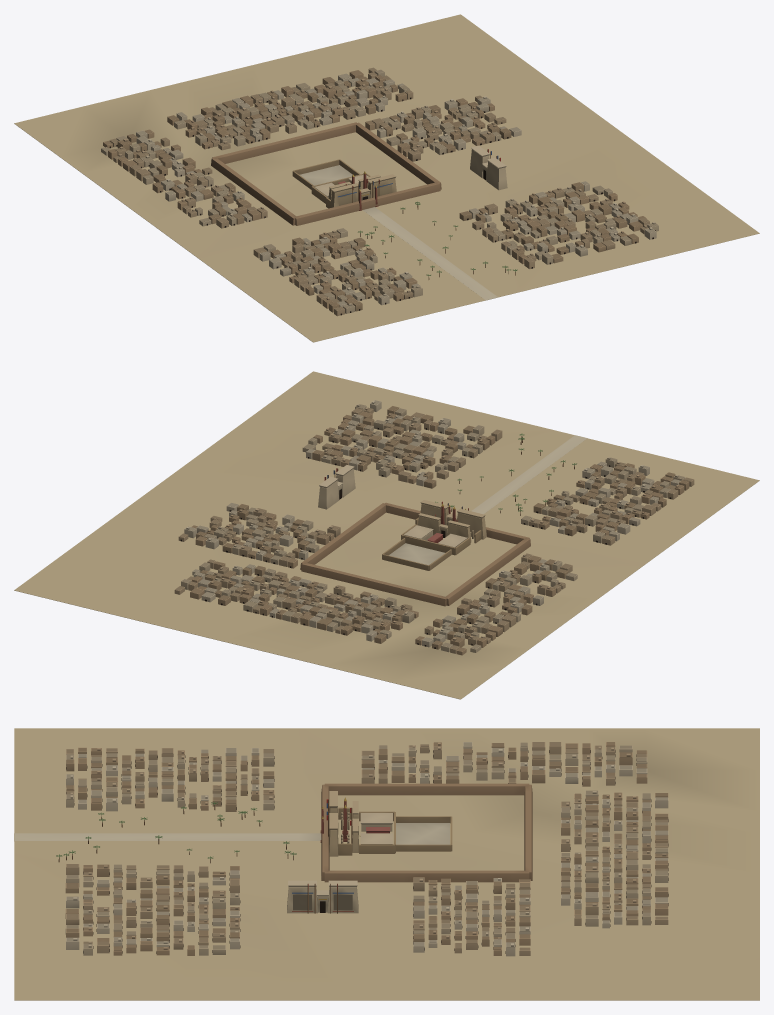
The model's file is karnak-1470.glb.
3 renders of one model, top to bottom at view 1: azimuth 30°, elevation 25°; view 2: azimuth 150°, elevation 25°; view 3: azimuth 270°, elevation 25°, orthographic. The views are drawn at different scales.
Parts seen in each view (by area): view 1: p0_walls, p3_town, p1_stage1; view 2: p0_walls, p3_town, p1_stage1; view 3: p0_walls, p3_town, p1_stage1.
Part boxes in pixels (x1,y1,x2,y2): p0_walls: (14, 14, 759, 342); p3_town: (101, 67, 658, 316); p1_stage1: (292, 145, 507, 208); p0_walls: (14, 371, 759, 699); p3_town: (174, 400, 694, 655); p1_stage1: (318, 465, 486, 570); p0_walls: (14, 728, 759, 1000); p3_town: (56, 742, 668, 956); p1_stage1: (287, 791, 452, 913).
Bounding box in the file's own units: 500 × 31.7 × 580.
